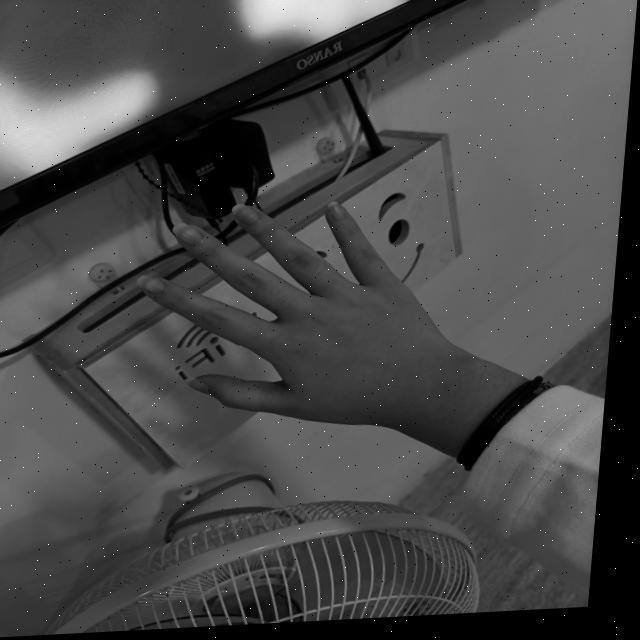no-gloves: (130, 194, 470, 440)
